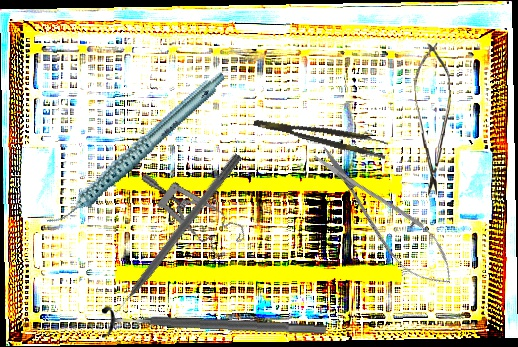Fixation Ring: (101, 304, 327, 347)
Handpiece: (23, 70, 249, 230)
Micro Scissor: (302, 134, 467, 300), (413, 40, 453, 198)
Pusher: (105, 151, 243, 323)
Speculum: (138, 144, 252, 274)
Tissue Forceps: (252, 107, 390, 161)
